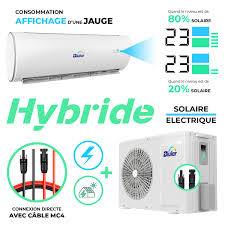ac: (5, 26, 138, 87)
